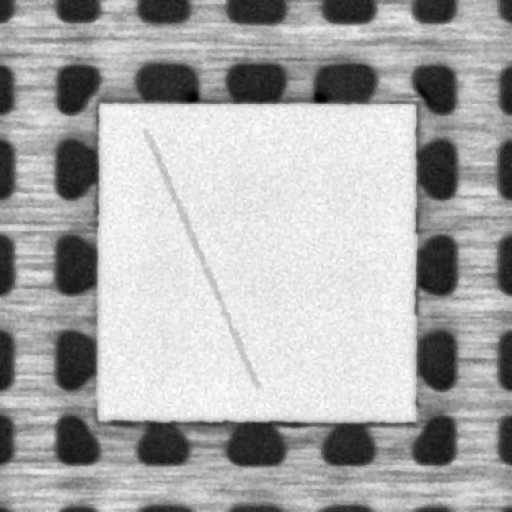DIE_CRACK: (144, 130, 256, 386)
